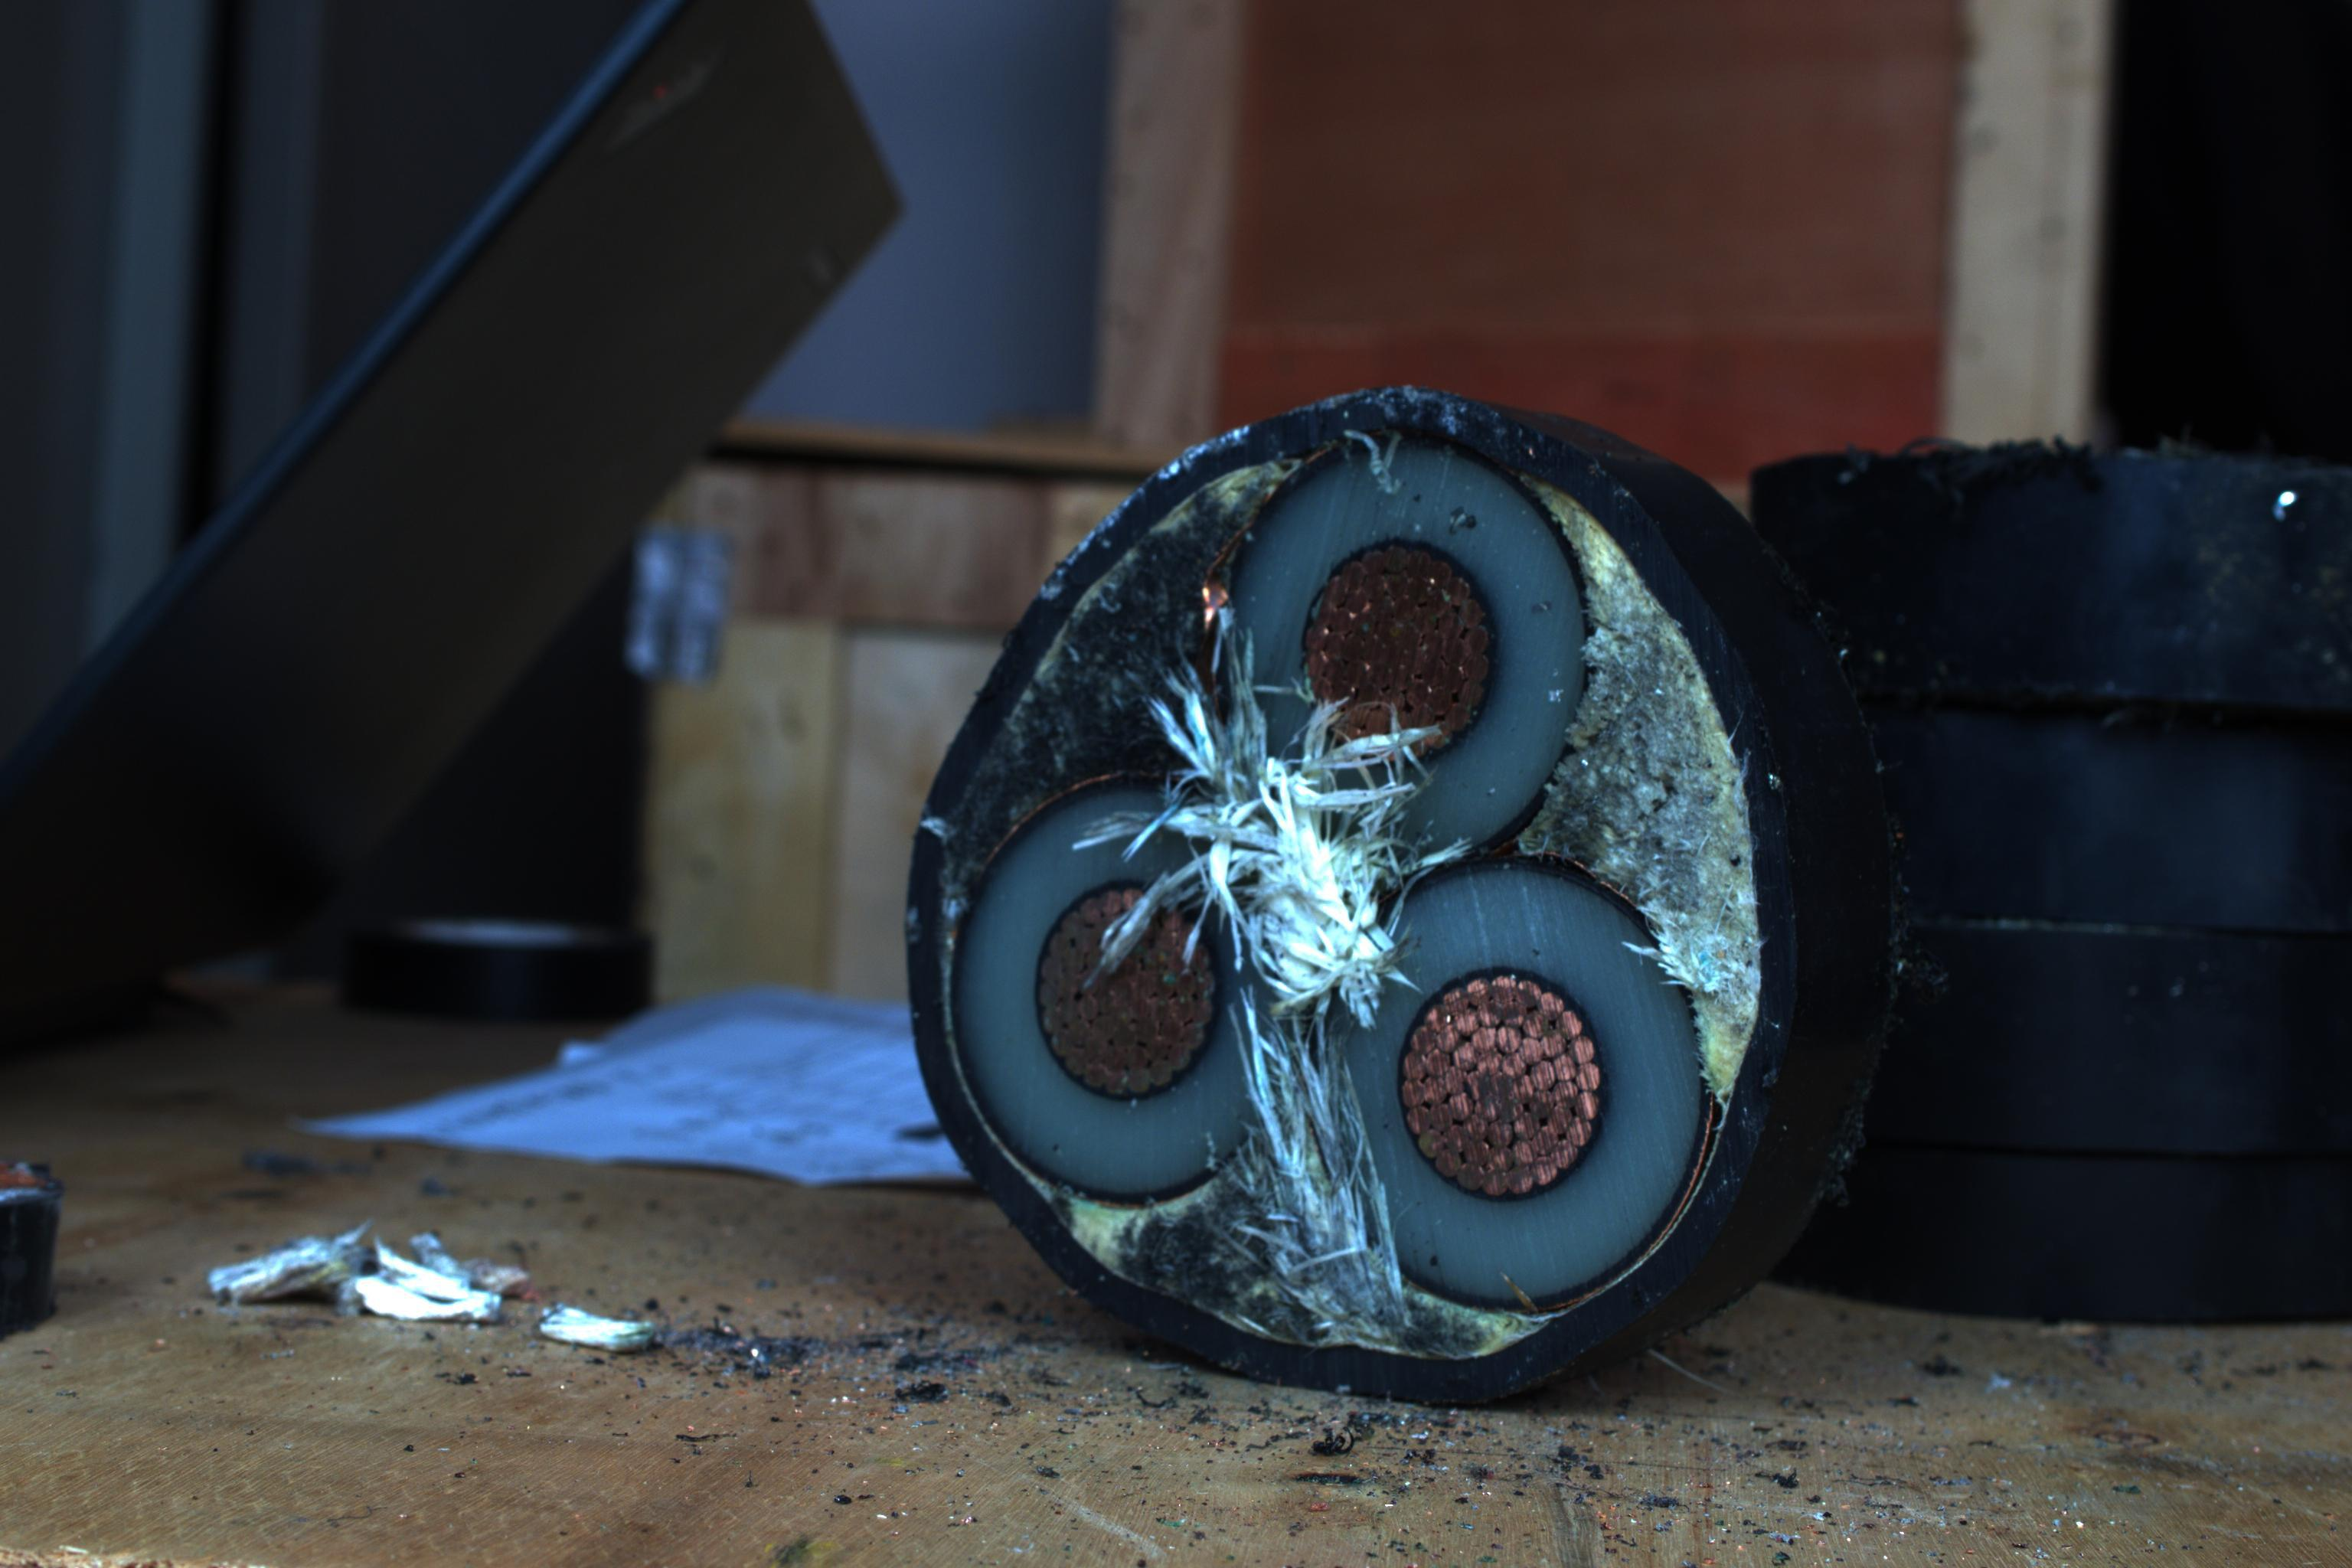ZA_YJV_26_35kV_3x400: (882, 367, 1827, 1407)
